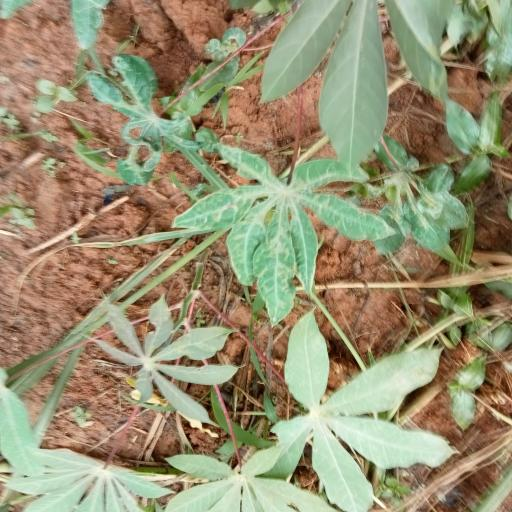Cassava_Mosaic: (188, 141, 381, 302), (281, 320, 447, 493), (105, 311, 231, 420), (97, 58, 194, 178)
